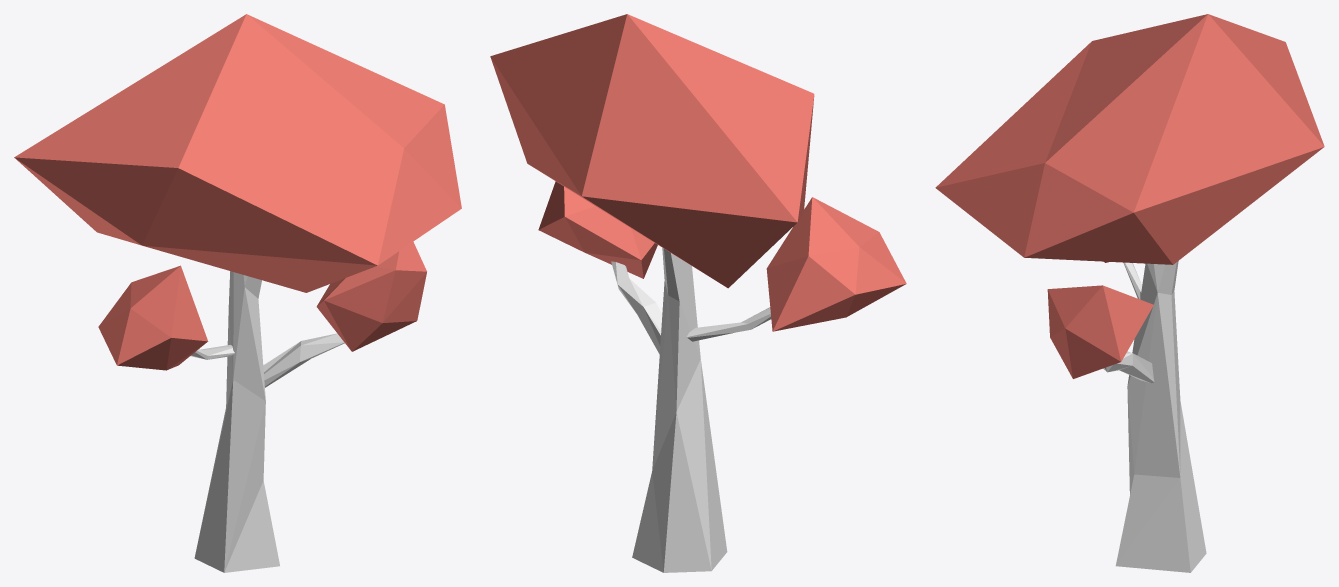
Rendered from Tree_3.glb.
3 views of the same model, side by side, from view 1: azimuth 30°, elevation 25°; view 2: azimuth 150°, elevation 25°; view 3: azimuth 270°, elevation 25° (orthographic). The views are drawn at different scales.
Visible parts, largest first — view 1: Sphere.2, Tree_3, Sphere.1, Sphere; view 2: Sphere.2, Tree_3, Sphere.1, Sphere; view 3: Sphere.2, Tree_3, Sphere.
Part boxes in pixels (left/top/right/bottom): Sphere.2: left=14, top=14, right=461, bottom=292; Tree_3: left=191, top=271, right=344, bottom=572; Sphere.1: left=98, top=265, right=208, bottom=370; Sphere: left=316, top=241, right=426, bottom=351; Sphere.2: left=490, top=14, right=814, bottom=288; Tree_3: left=611, top=248, right=771, bottom=572; Sphere.1: left=766, top=197, right=906, bottom=331; Sphere: left=538, top=181, right=657, bottom=278; Sphere.2: left=935, top=14, right=1324, bottom=264; Tree_3: left=1103, top=261, right=1206, bottom=572; Sphere: left=1047, top=285, right=1153, bottom=378.
Size of the model in its own units: 593 by 815 by 517.
